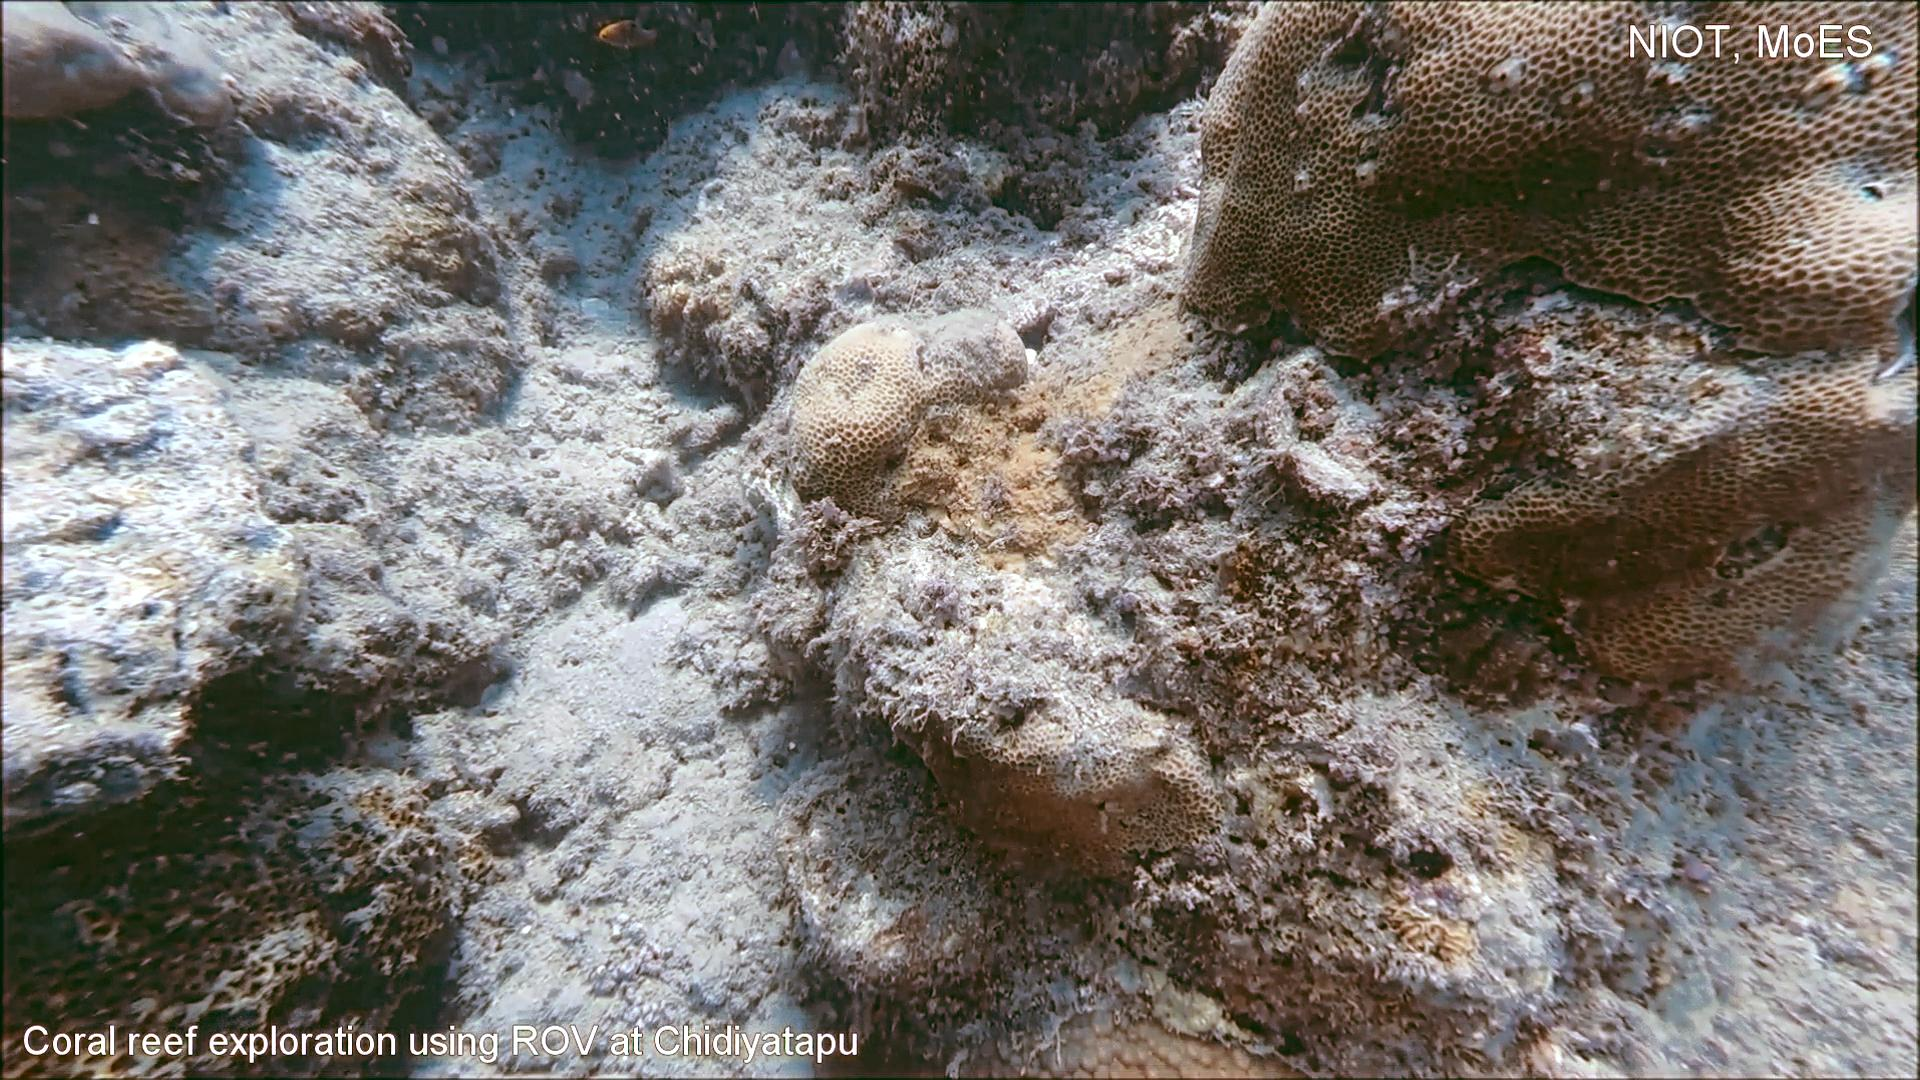Montastraea: (816, 989, 1309, 1080)
